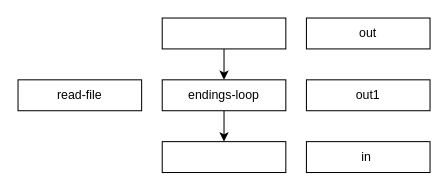
Image size: 448x191. Some labels were removed from this diagram. The box of each missing label's shape, as (x1, y1, x2, y2) in pixels:
loop i counter: (161, 141, 286, 173)
remove-ending-from-word: (161, 17, 286, 49)
